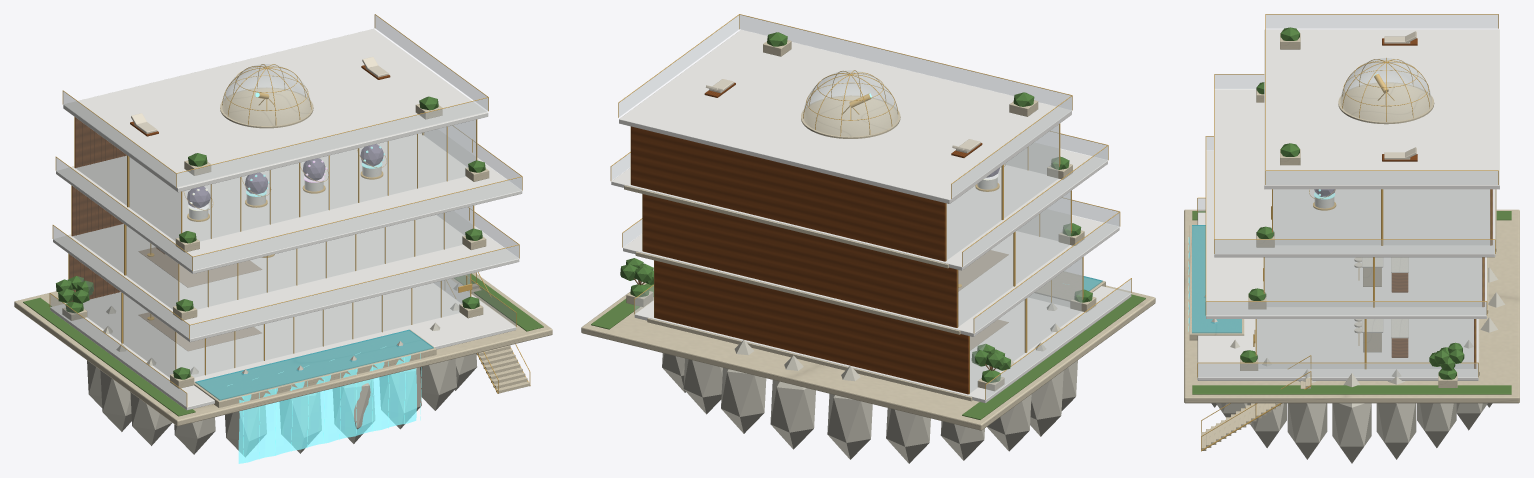
Rendered from House4.glb.
3 renders of one model, left to right at view 1: azimuth 30°, elevation 25°; view 2: azimuth 150°, elevation 25°; view 3: azimuth 270°, elevation 25°, orthographic. The views are drawn at different scales.
Visible parts, largest first — view 1: House4, Base; view 2: House4, Base; view 3: House4, Base.
Boxes of the visible parts, x1=… form: House4: x1=23, y1=14, x2=543, y2=463; Base: x1=14, y1=272, x2=552, y2=426; House4: x1=591, y1=14, x2=1145, y2=463; Base: x1=581, y1=282, x2=1155, y2=430; House4: x1=1188, y1=14, x2=1511, y2=463; Base: x1=1184, y1=209, x2=1519, y2=403.
Bounding box in the file's own units: 65 × 51.67 × 49.
Materials: 19 (3 with a texture image).
